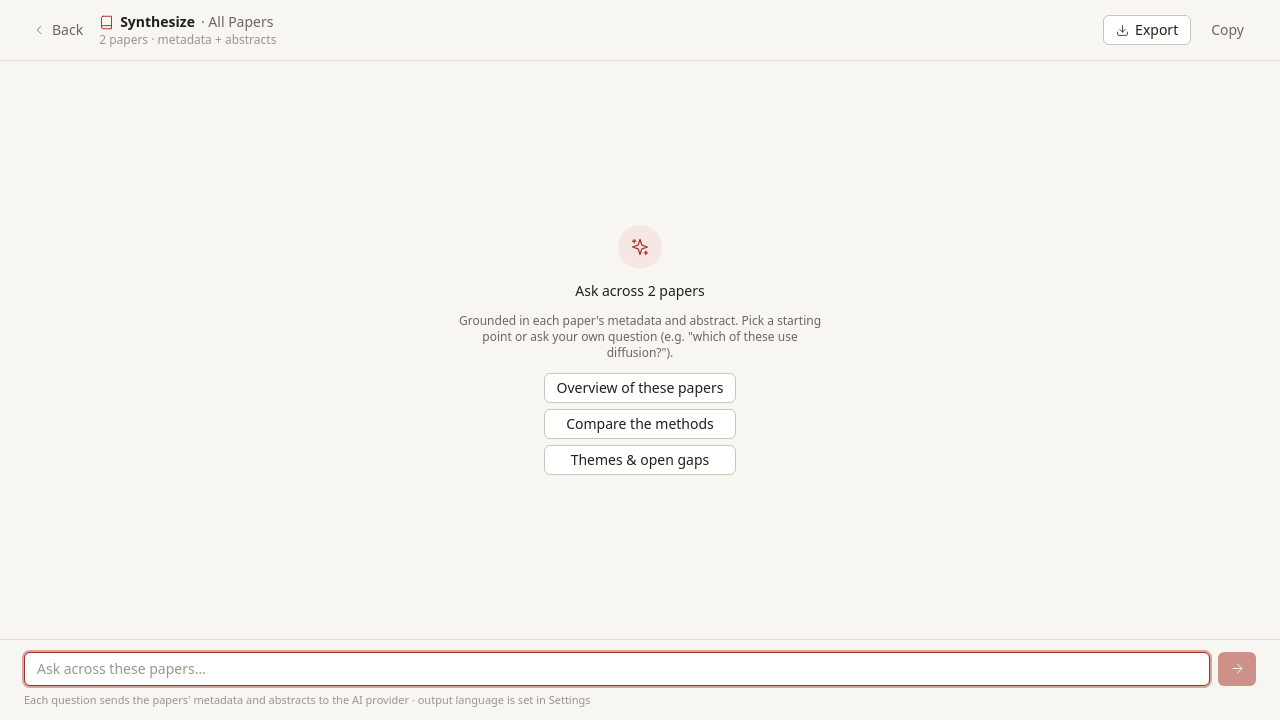
Test: SynthesisFlow › sends a preset over the scoped item keys and renders the answer
Expected: the text "Ask across 2 papers" is shown, [575, 281, 705, 301]
Click the button "Overview of these papers".
click(640, 388)  # box [544, 373, 736, 403]
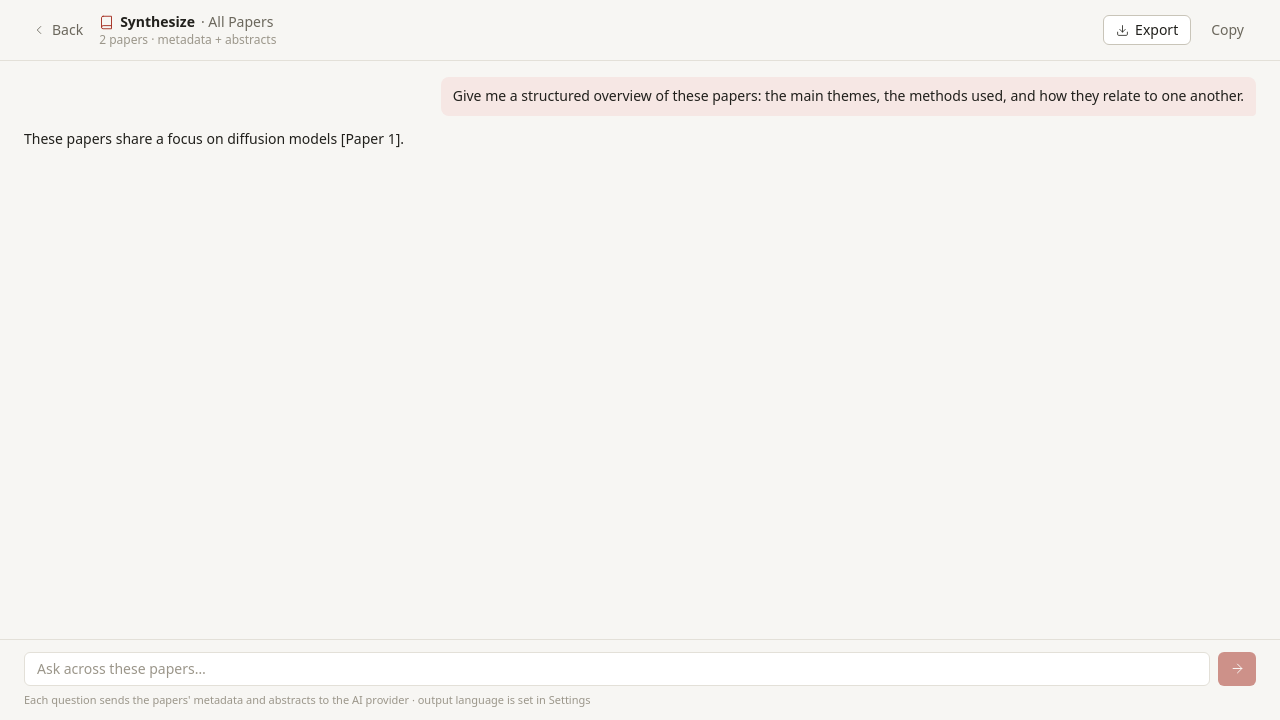
Expected: the text "These papers share a focus on diffusion models [Paper 1]." is shown, [24, 129, 404, 148]
